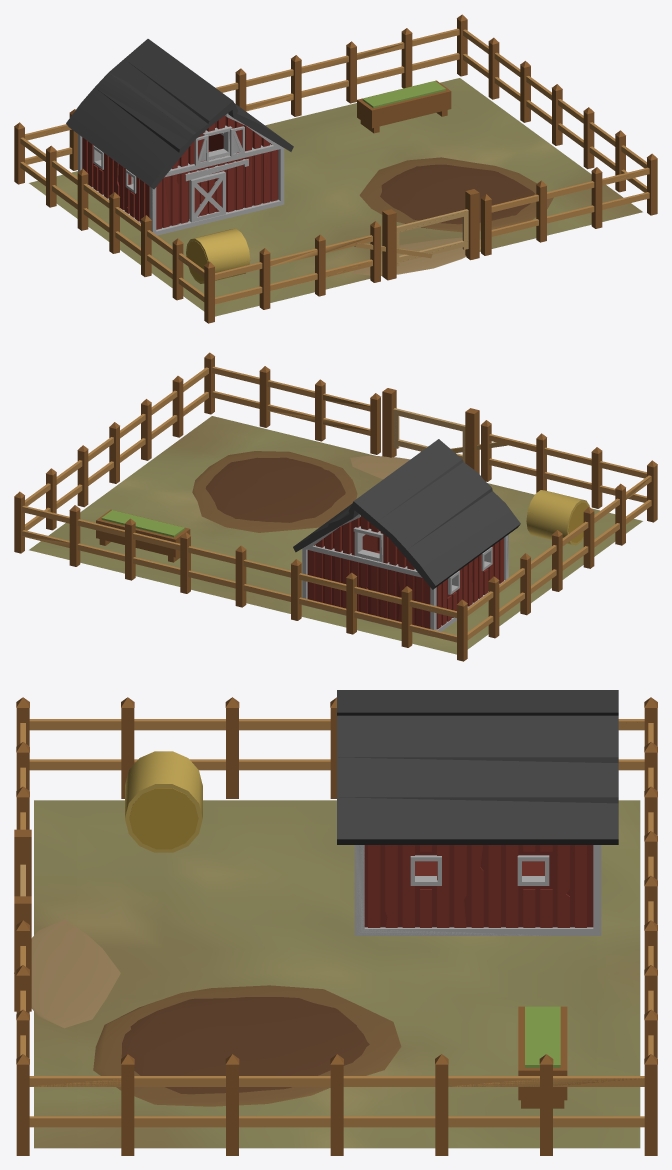
The model's file is pig_pen.glb.
3 renders of one model, top to bottom at view 1: azimuth 30°, elevation 25°; view 2: azimuth 150°, elevation 25°; view 3: azimuth 270°, elevation 25°, orthographic. The views are drawn at different scales.
Parts seen in each view (by area): view 1: home-pig_pen, home-pig_pen-far; view 2: home-pig_pen, home-pig_pen-far; view 3: home-pig_pen, home-pig_pen-far.
Boxes of the visible parts, <box> form: home-pig_pen: <box>14,14,657,323</box>; home-pig_pen-far: <box>14,17,657,322</box>; home-pig_pen: <box>14,352,657,660</box>; home-pig_pen-far: <box>14,357,657,661</box>; home-pig_pen: <box>14,690,657,1155</box>; home-pig_pen-far: <box>14,698,657,1155</box>.
Bounding box in the file's own units: 7.93 × 2.09 × 5.95.
